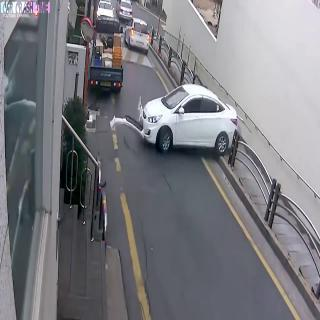single accident: (97, 85, 252, 156)
